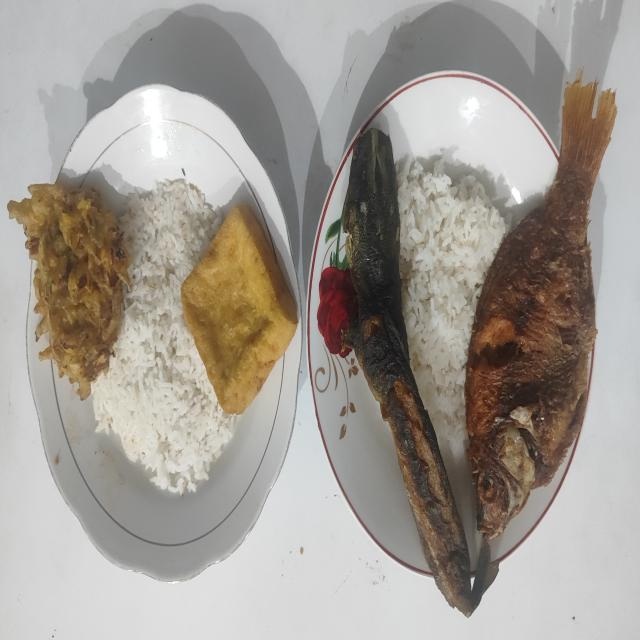ikan_mujair: (464, 72, 616, 540)
nasi_putih: (91, 178, 236, 494), (396, 159, 509, 455)
tahu_goreng: (182, 205, 298, 414)
